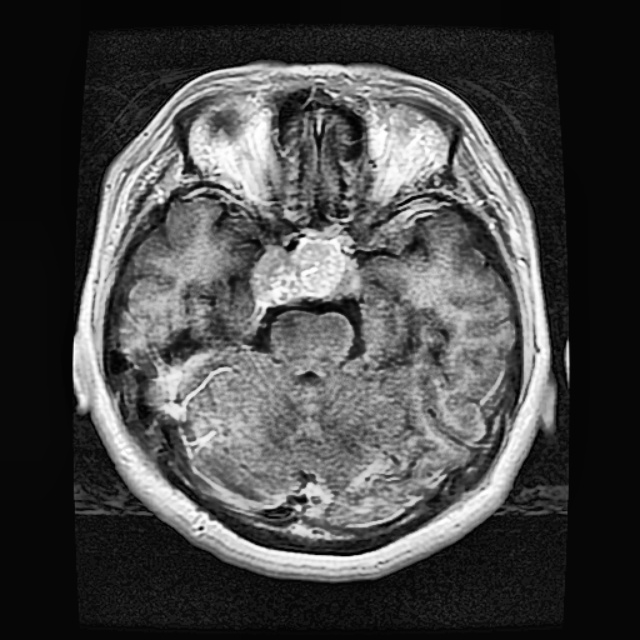Pituitary: (252, 232, 347, 303)
